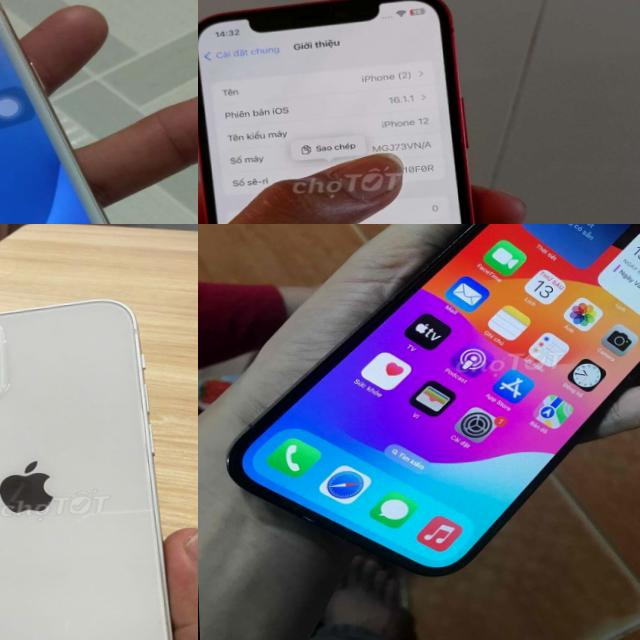gen_12_13: (216, 224, 640, 587), (198, 0, 496, 224), (0, 298, 183, 640)
gen_7_8: (0, 0, 198, 224)
